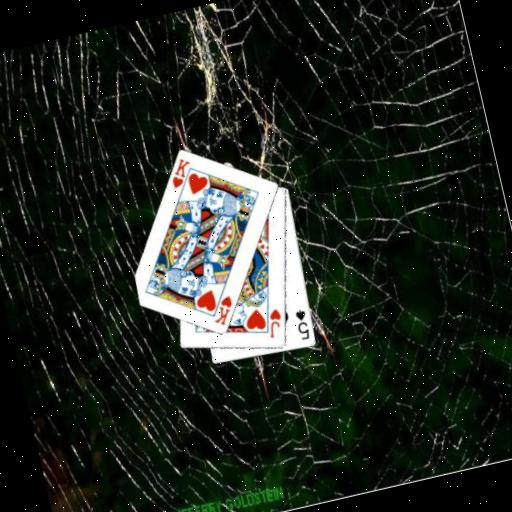5S: (291, 306, 313, 343)
JH: (261, 305, 287, 340)
KH: (164, 154, 197, 191), (207, 292, 239, 329)
